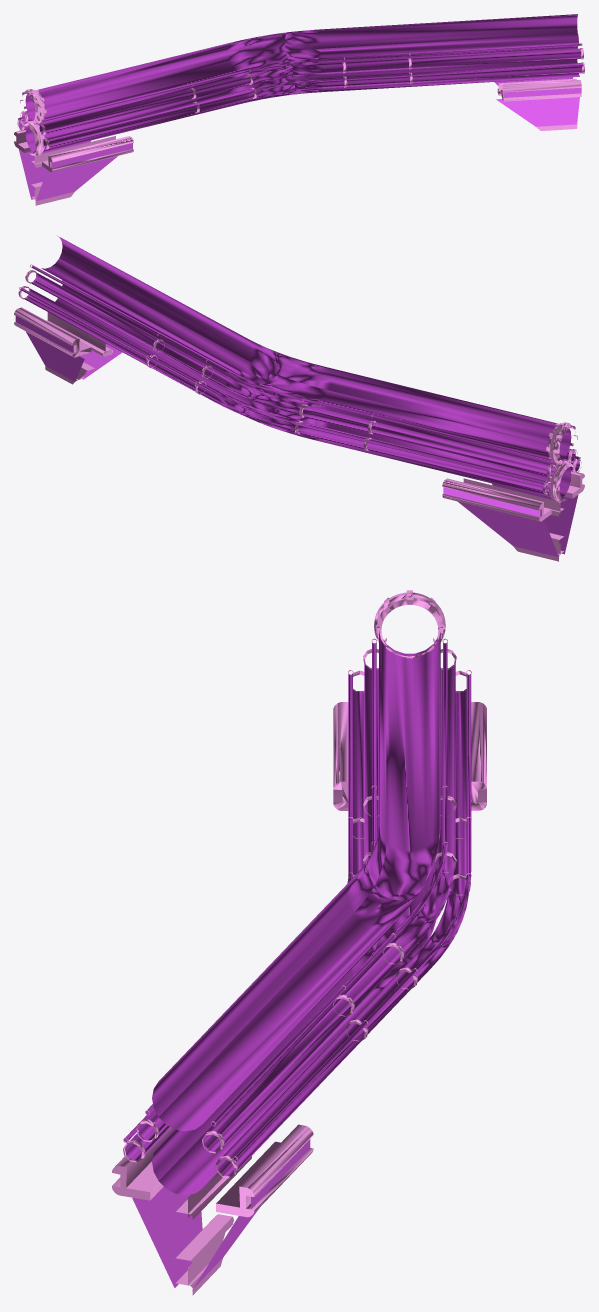
File: pipeline_b_22d_185m_a.glb
3 views of the same model, one above another, from view 1: azimuth 30°, elevation 25°; view 2: azimuth 150°, elevation 25°; view 3: azimuth 270°, elevation 25° (orthographic). The views are drawn at different scales.
Bounding box in the file's own units: 199 × 42.87 × 63.93.
